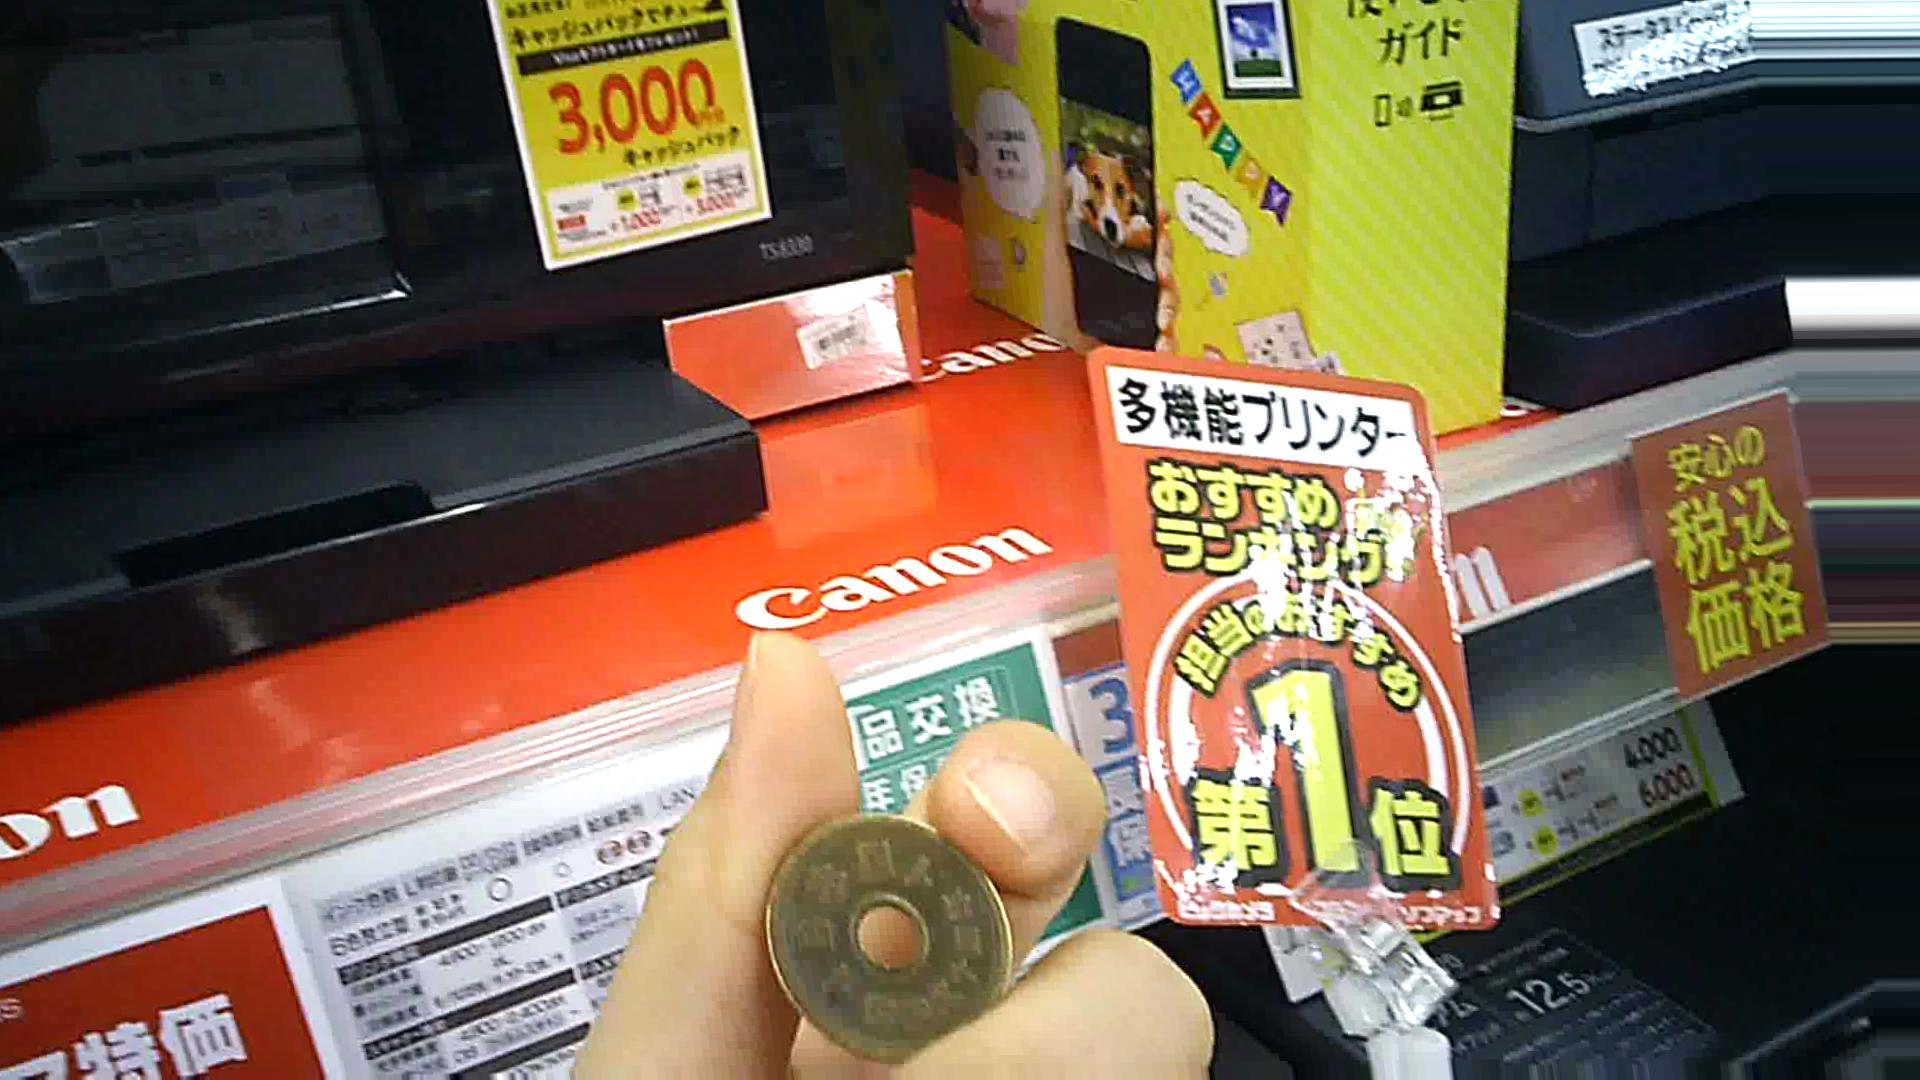5 Yen: (750, 814, 1023, 1075)
